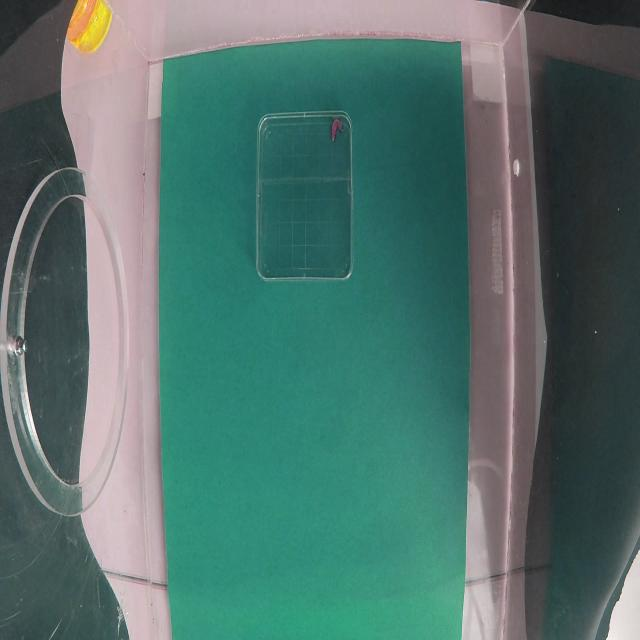larva: (330, 115, 346, 142)
